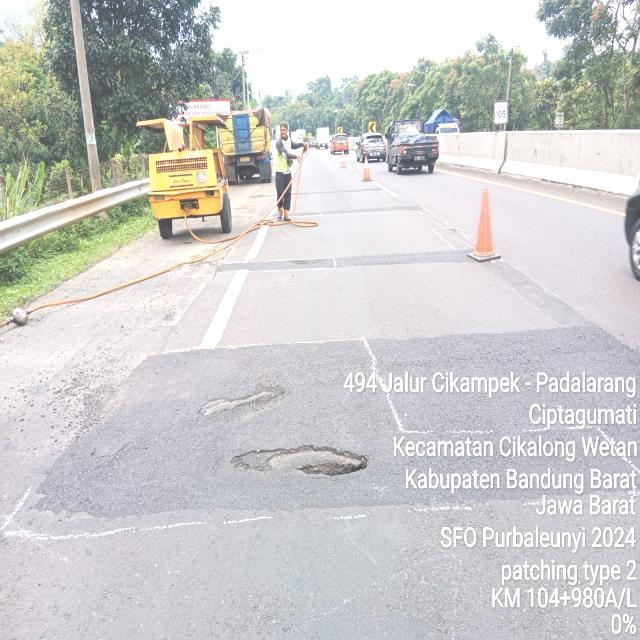Buraco: (227, 442, 372, 480), (196, 381, 290, 420), (181, 240, 195, 246)
